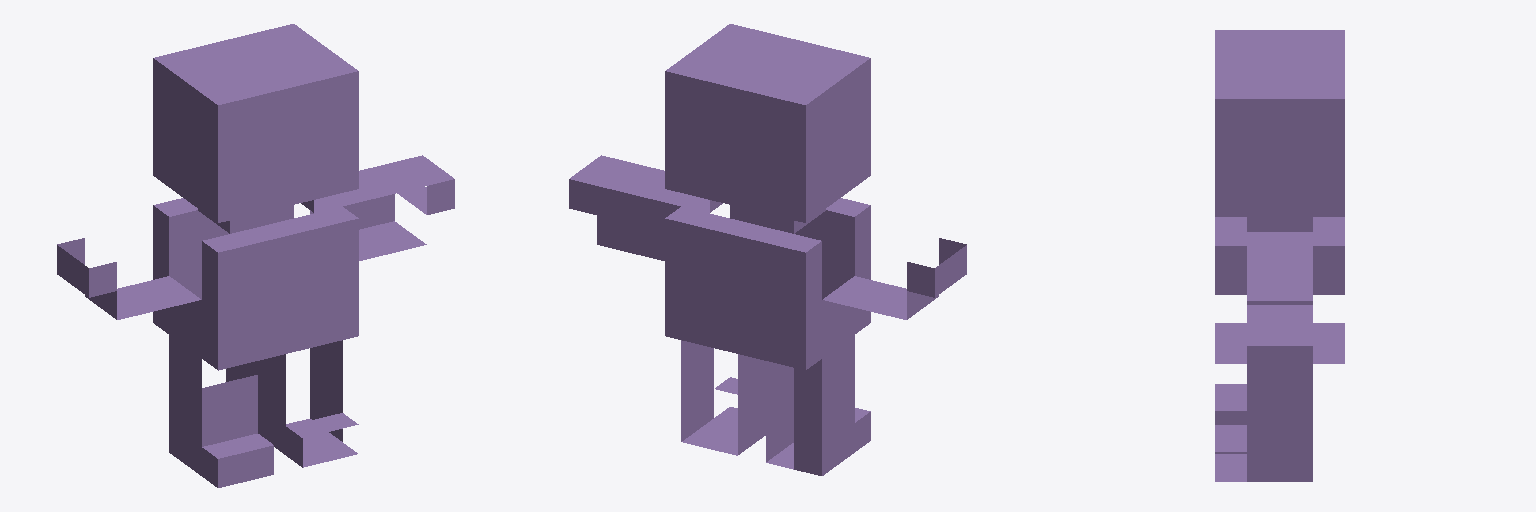
The picture shows the model from 3 angles: view 1: azimuth 30°, elevation 25°; view 2: azimuth 150°, elevation 25°; view 3: azimuth 270°, elevation 25°; orthographic projection.
Visible parts, largest first — view 1: Model; view 2: Model; view 3: Model.
Part boxes in pixels (left/top/right/bottom): Model: left=57, top=24, right=454, bottom=487; Model: left=569, top=24, right=966, bottom=475; Model: left=1215, top=30, right=1344, bottom=481.
Bounding box in the file's own units: 13 × 13 × 4.
1 materials, 1 textured.